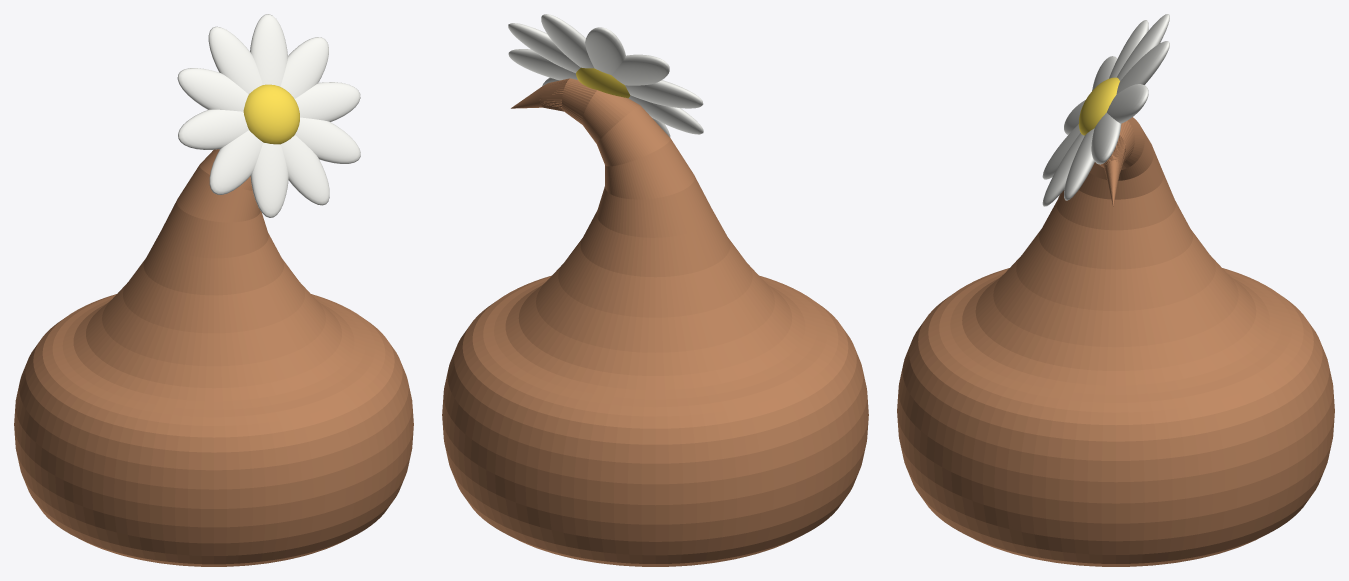
File: head_var_hat-f.glb
The picture shows the model from 3 angles, left to right: view 1: azimuth 30°, elevation 25°; view 2: azimuth 150°, elevation 25°; view 3: azimuth 270°, elevation 25°; orthographic projection. The views are drawn at different scales.
Parts seen in each view (by area): view 1: tmp_head_06; view 2: tmp_head_06; view 3: tmp_head_06.
Part boxes in pixels (x1,y1,x2,y2): tmp_head_06: (14,14,413,566); tmp_head_06: (442,14,868,566); tmp_head_06: (897,14,1334,566).
Size of the model in its own units: 1.07 by 1.33 by 1.07.
